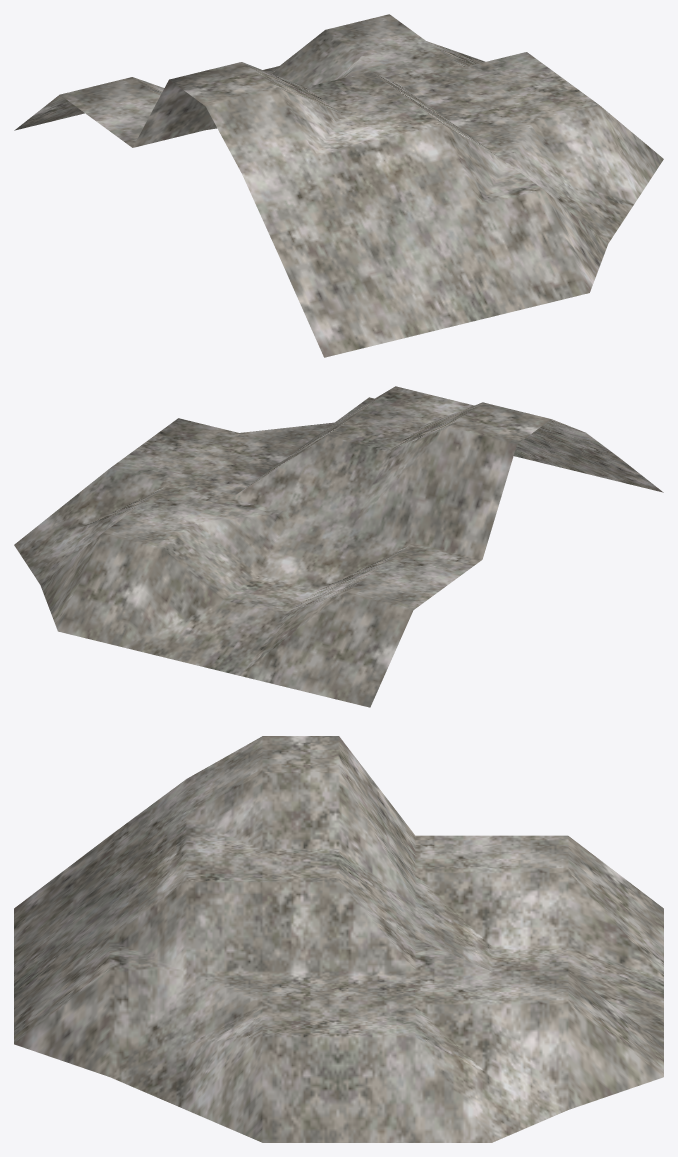
Rendered from DEBREE_SIDE_PLAIN.fbx.
3 views of the same model, one above another, from view 1: azimuth 30°, elevation 25°; view 2: azimuth 150°, elevation 25°; view 3: azimuth 270°, elevation 25° (orthographic). The views are drawn at different scales.
Parts seen in each view (by area): view 1: DEBREE_SIDE_PLAIN; view 2: DEBREE_SIDE_PLAIN; view 3: DEBREE_SIDE_PLAIN.
Part boxes in pixels (<box>): DEBREE_SIDE_PLAIN: <box>14,14,663,357</box>; DEBREE_SIDE_PLAIN: <box>14,386,663,707</box>; DEBREE_SIDE_PLAIN: <box>14,736,663,1142</box>.
Bounding box in the file's own units: 45067 × 15467 × 52817.
Materials: 1 (1 with a texture image).
